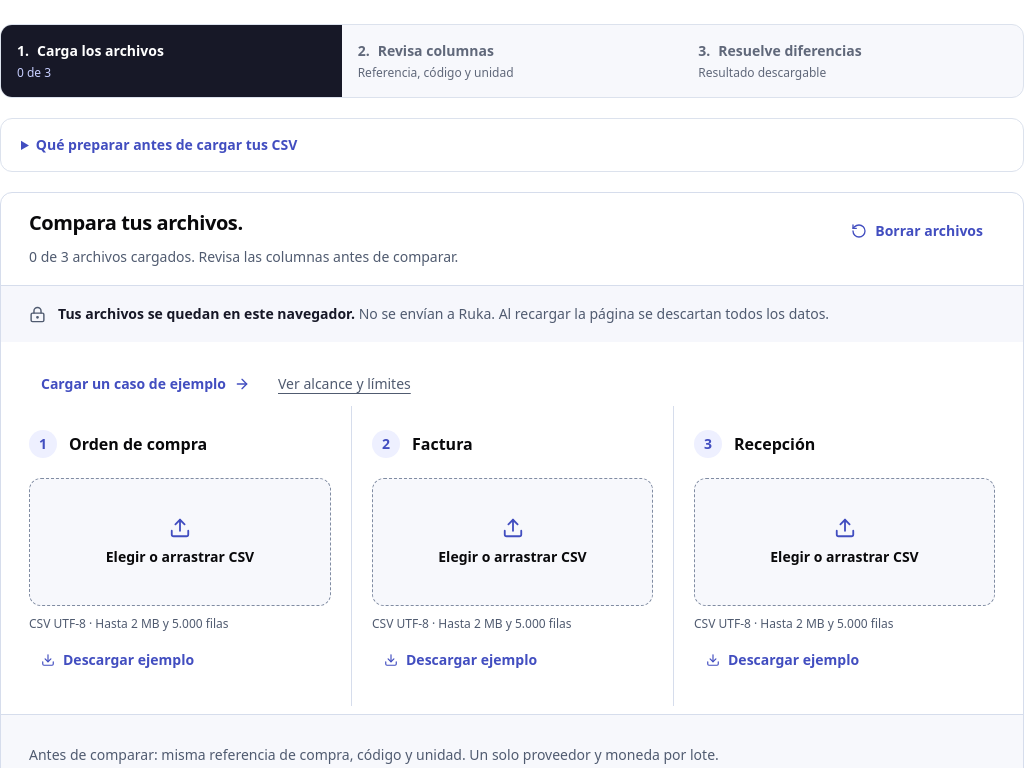
Test case: guided local CSV review › removes one file, explains what is missing and can undo
The image size is (1024, 768).
What coordinates should you click on to do the following:
click the button "Cargar un caso de ejemplo"
I would click on:
 (146, 384)
Its box is left=29, top=362, right=262, bottom=406.
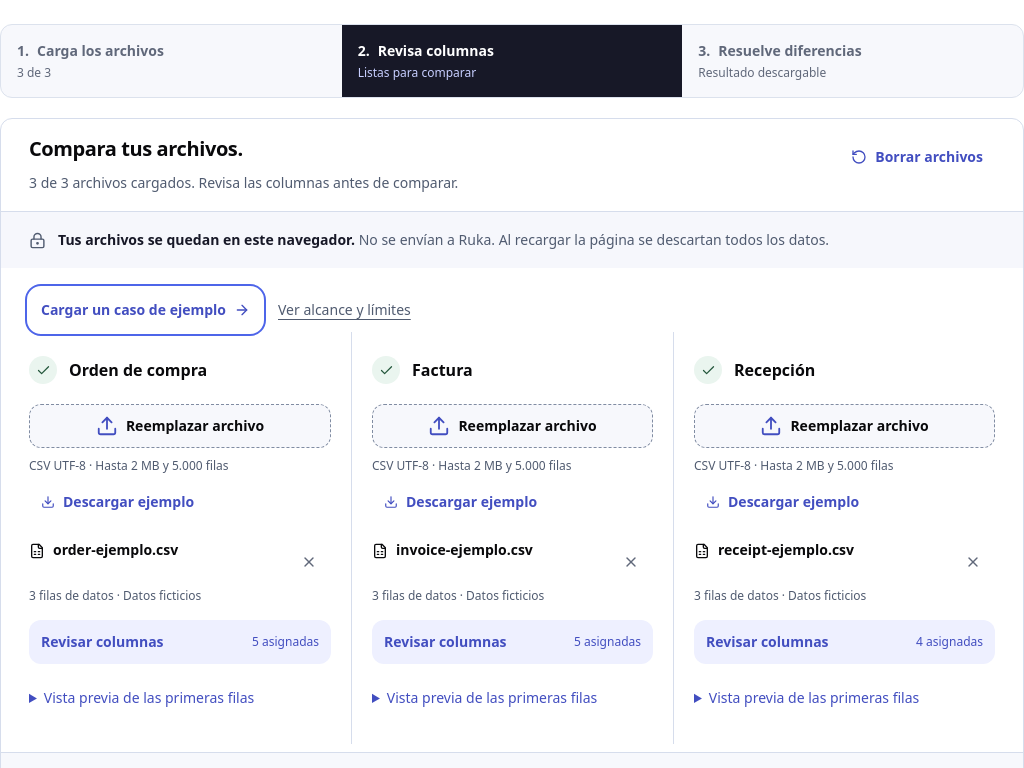
What coordinates should you click on to do the following:
click the button named "Quitar Factura"
I would click on:
 (631, 562)
Its box is left=609, top=540, right=653, bottom=584.
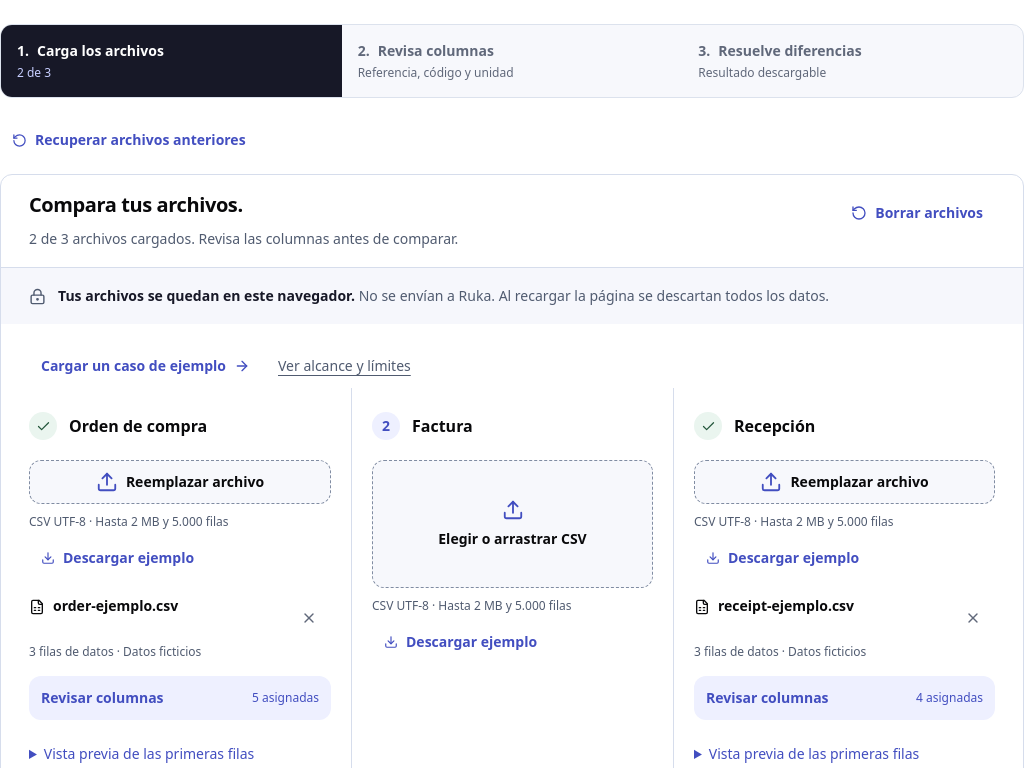
Expected: the text "invoice-ejemplo.csv" is gone
What coordinates should you click on to do the following:
click the button "Recuperar archivos anteriores"
I would click on:
 (129, 140)
Its box is left=0, top=118, right=258, bottom=162.
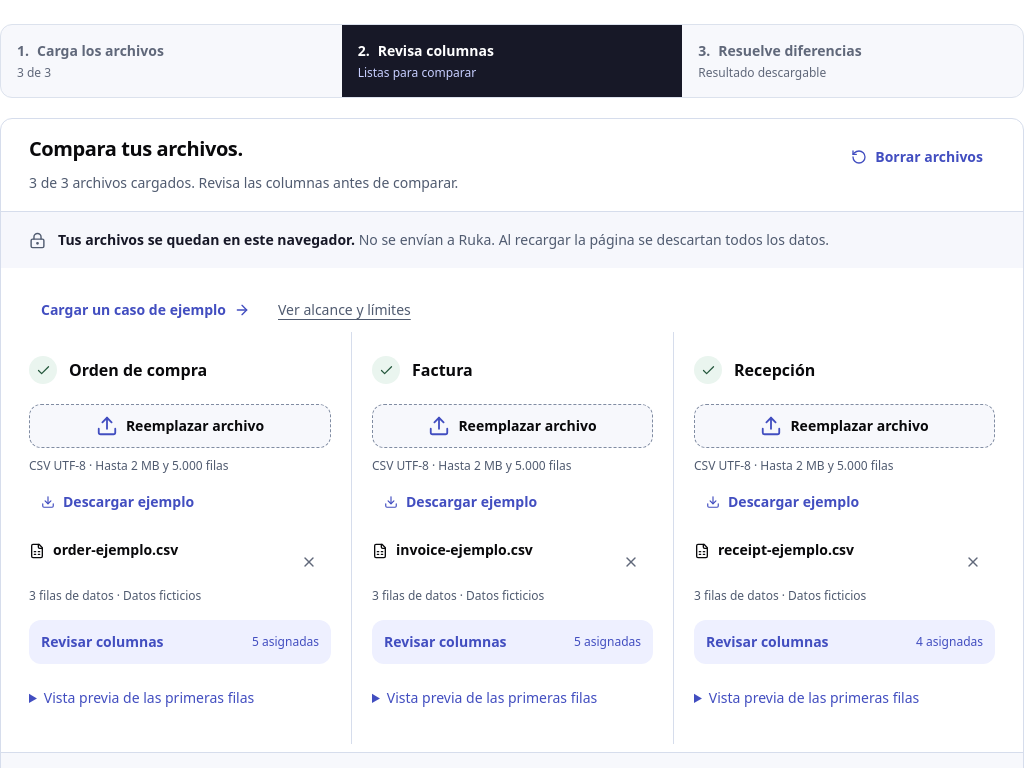
Expected: the text "invoice-ejemplo.csv" is shown, left=372, top=540, right=533, bottom=560
